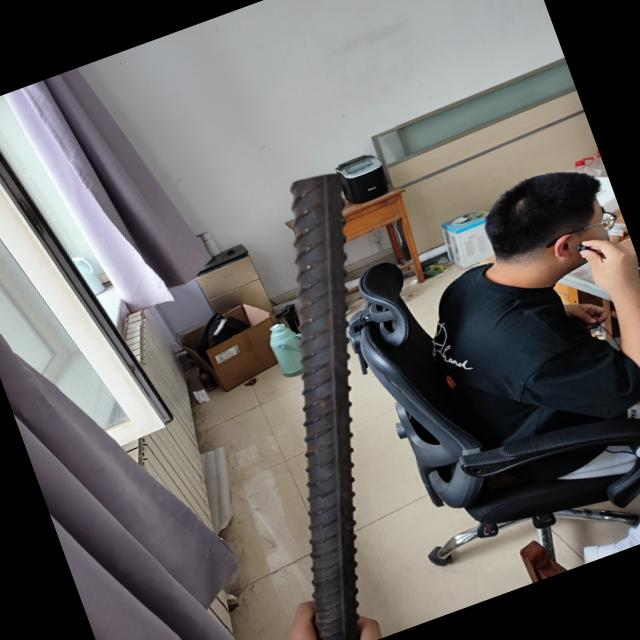ribbed bar: (174, 166, 492, 622)
